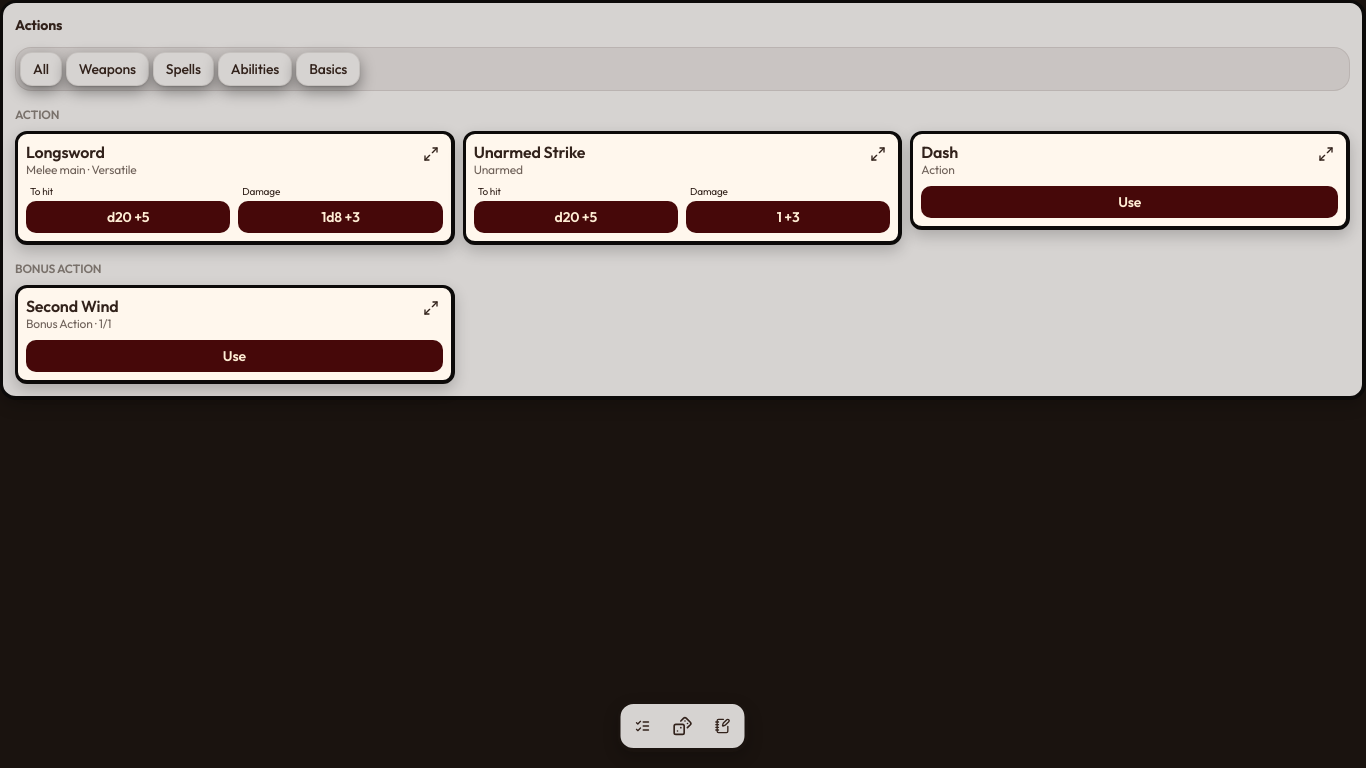
Scenario: AttacksActionsPanel roll integration › filters basics separately from class abilities
Expected: the heading "Dash" is shown, x1=921 y1=142 x2=958 y2=162
Expected: the heading "Second Wind" is shown, x1=26 y1=296 x2=118 y2=316
Isolate basics: exclude the other categories from show-all.
Step 1. Click the button "Weapons" → {"x": 107, "y": 69}, box x1=66 y1=52 x2=149 y2=86
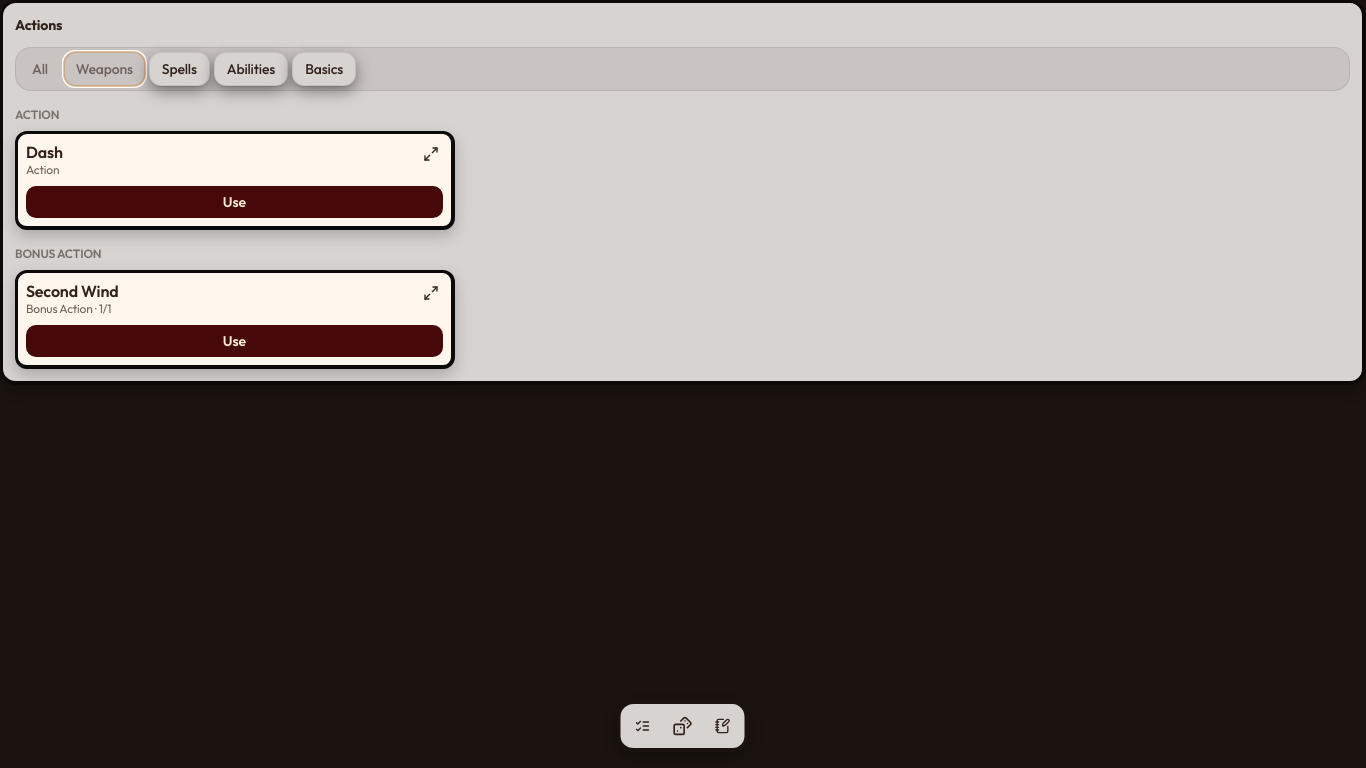
Step 2. Click the button "Spells" → {"x": 179, "y": 69}, box x1=149 y1=52 x2=210 y2=86
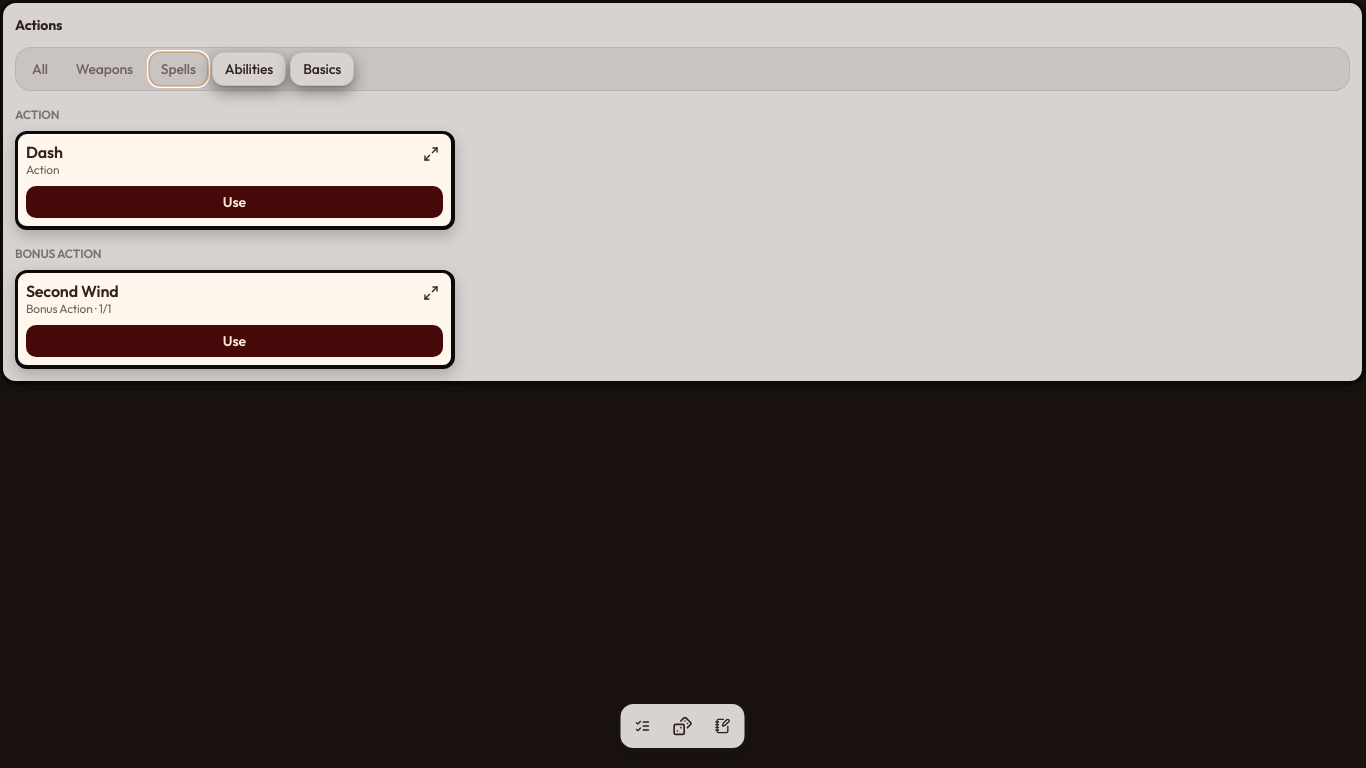
Step 3. Click the button "Abilities" → {"x": 249, "y": 69}, box x1=212 y1=52 x2=286 y2=86
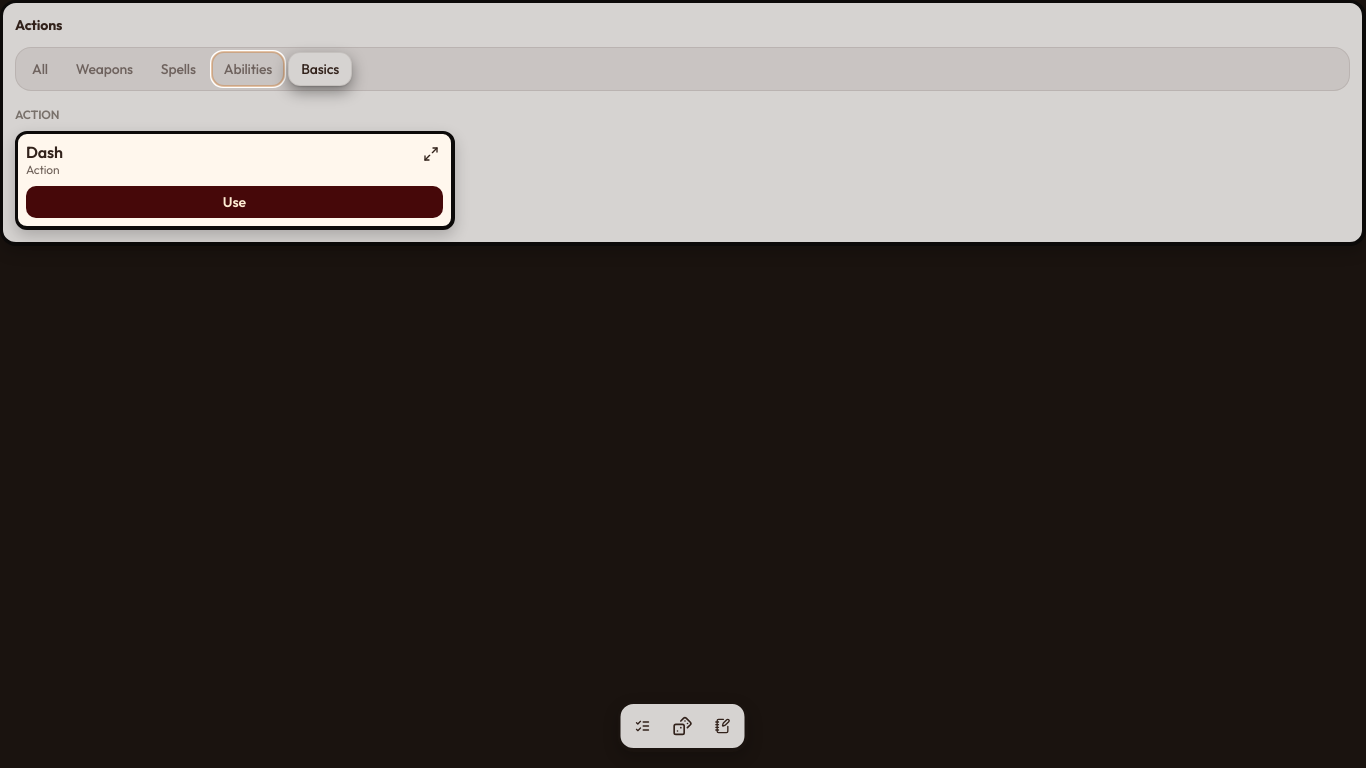
Expected: the heading "Dash" is shown, x1=26 y1=142 x2=63 y2=162
Result: the heading "Second Wind" is gone
